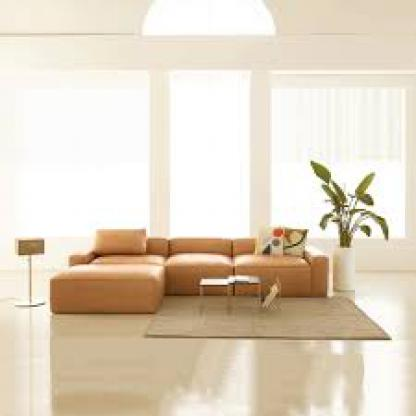sofa: (48, 228, 333, 314)
